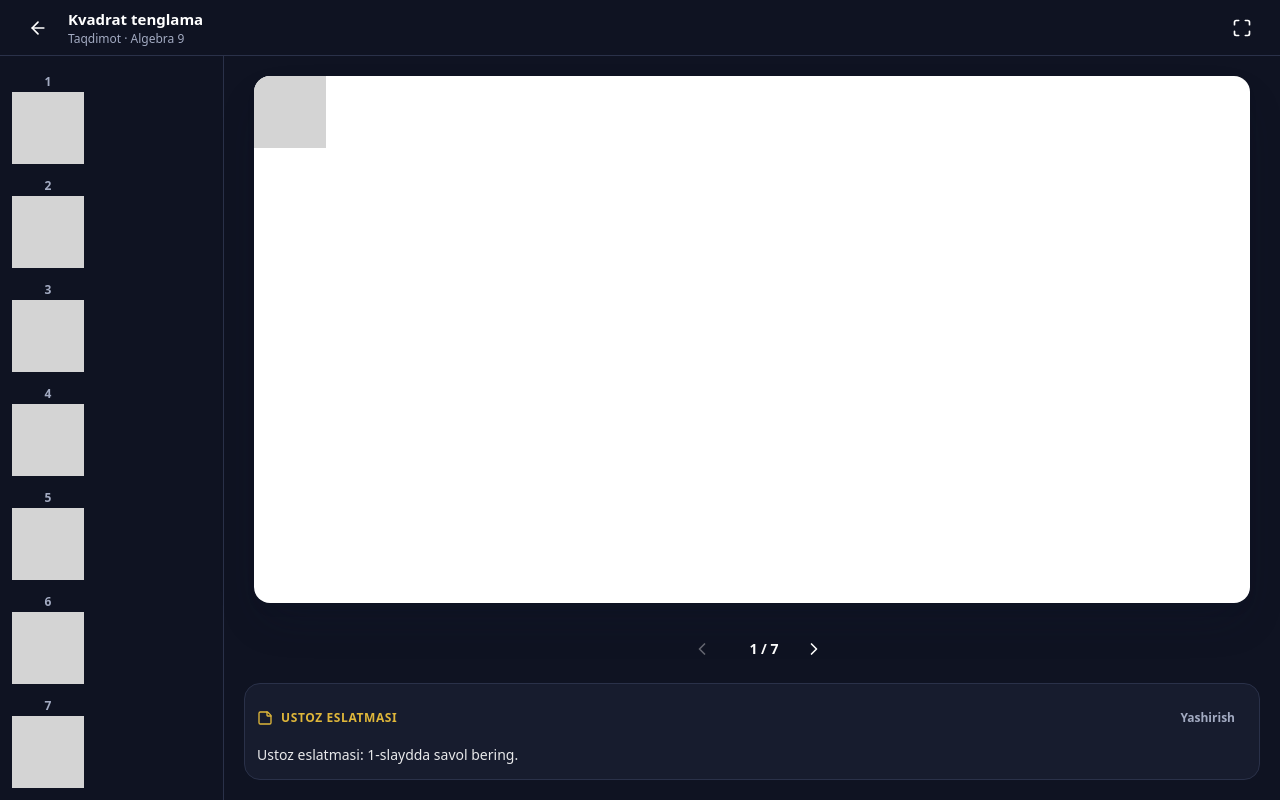
Scenario: PresentationViewer › ustoz eslatmasi bor slaydda chiqadi va yashiriladi
Click the button "Yashirish" at (1208,718), box left=1168, top=696, right=1247, bottom=740
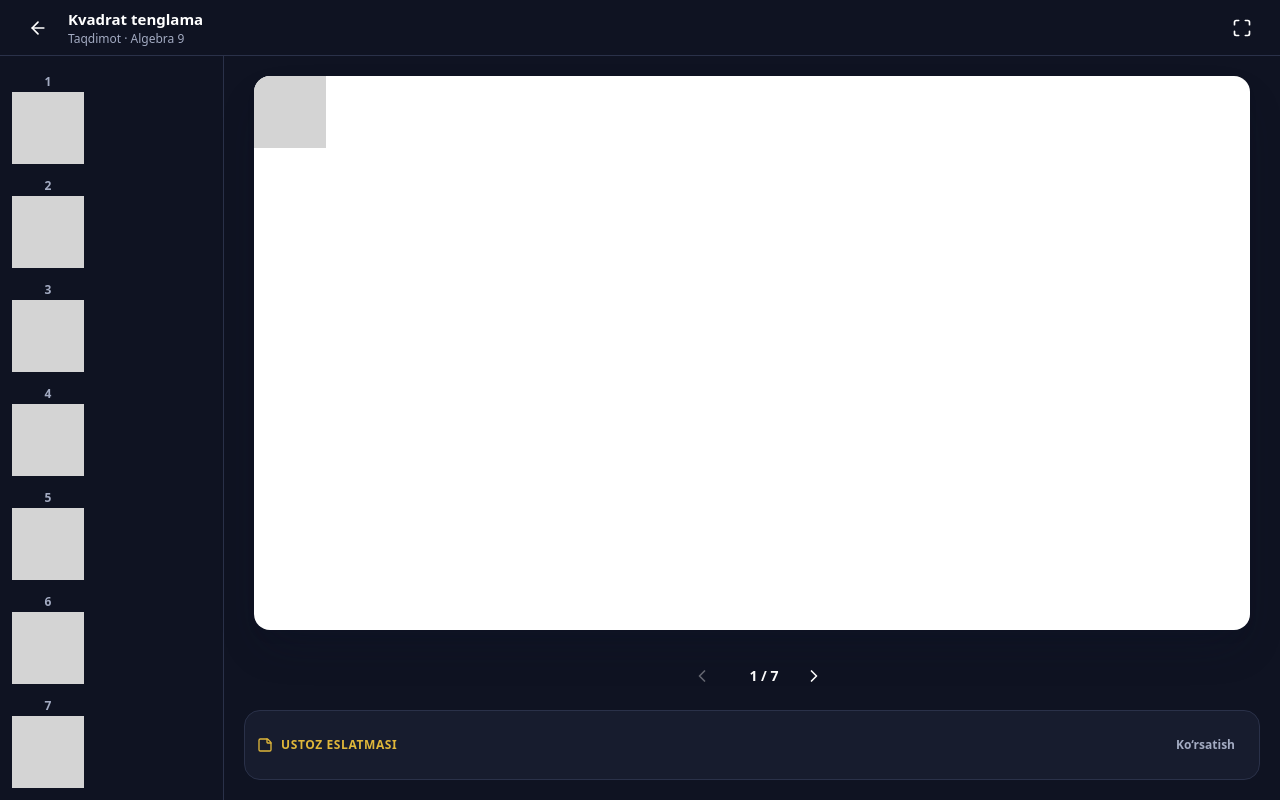
Result: the button named "Yashirish" is collapsed at left=1164, top=723, right=1247, bottom=767
